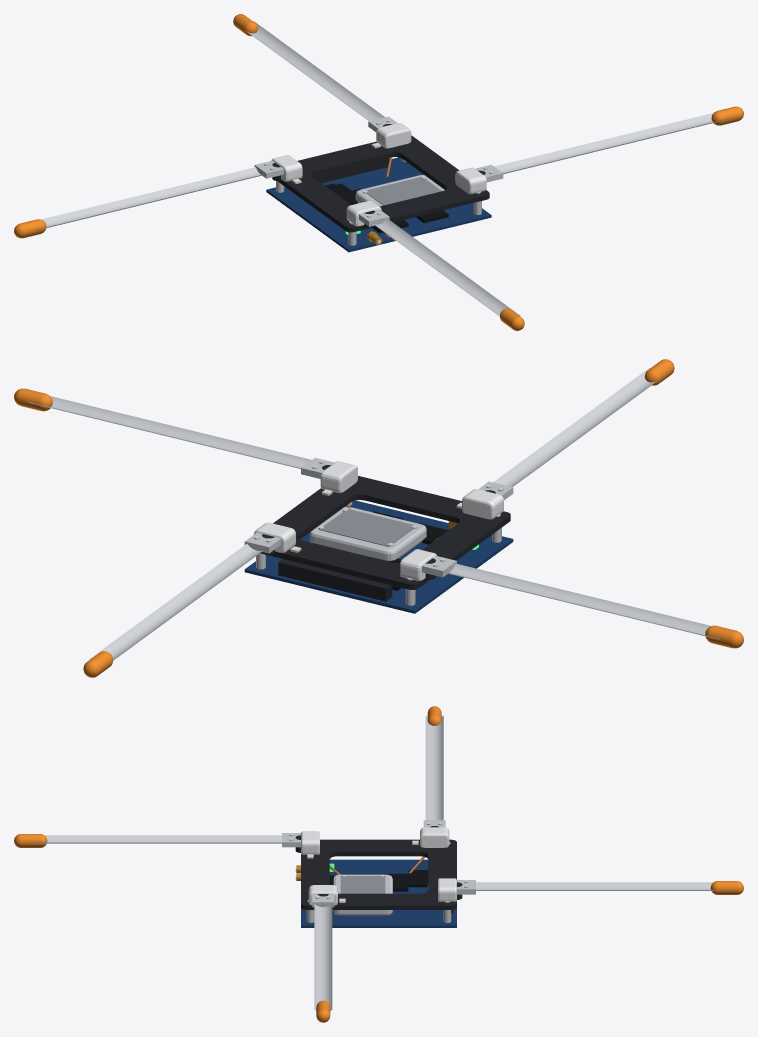
File: radio-uhf.glb
3 renders of one model, top to bottom at view 1: azimuth 30°, elevation 25°; view 2: azimuth 150°, elevation 25°; view 3: azimuth 270°, elevation 25°, orthographic. The views are drawn at different scales.
Parts seen in each view (by area): view 1: antenna-deck, transceiver-board-board, whip-2-tape, whip-4-tape, whip-1-tape, whip-3-tape, shield-lid, hinge-housing-3, transceiver-board-connector, hinge-housing-2, hinge-housing-4; view 2: antenna-deck, transceiver-board-board, whip-2-tape, whip-4-tape, whip-3-tape, whip-1-tape, shield-can, transceiver-board-connector, shield-lid, hinge-housing-1, hinge-housing-2, hinge-housing-4 (+4 smaller); view 3: antenna-deck, transceiver-board-board, whip-1-tape, whip-3-tape, whip-4-tape, whip-2-tape, shield-lid, shield-can, hinge-housing-4.
Part boxes in pixels (<box>): antenna-deck: <box>277,135,489,232</box>; transceiver-board-board: <box>266,157,491,252</box>; whip-2-tape: <box>494,113,731,174</box>; whip-4-tape: <box>34,167,264,230</box>; whip-1-tape: <box>373,218,520,316</box>; whip-3-tape: <box>246,21,384,121</box>; shield-lid: <box>366,177,441,205</box>; hinge-housing-3: <box>376,123,411,148</box>; transceiver-board-connector: <box>313,157,389,183</box>; hinge-housing-2: <box>455,167,486,194</box>; hinge-housing-4: <box>271,155,302,181</box>; antenna-deck: <box>260,476,510,589</box>; transceiver-board-board: <box>244,500,513,613</box>; whip-2-tape: <box>28,396,311,468</box>; whip-4-tape: <box>445,563,719,639</box>; whip-3-tape: <box>88,544,263,663</box>; whip-1-tape: <box>493,368,662,486</box>; shield-can: <box>309,506,426,560</box>; transceiver-board-connector: <box>278,559,392,601</box>; shield-lid: <box>319,509,414,546</box>; hinge-housing-1: <box>462,489,503,519</box>; hinge-housing-2: <box>320,461,357,493</box>; hinge-housing-4: <box>400,549,436,581</box>; antenna-deck: <box>301,839,456,909</box>; transceiver-board-board: <box>301,859,456,927</box>; whip-1-tape: <box>30,835,281,843</box>; whip-3-tape: <box>476,882,727,890</box>; whip-4-tape: <box>425,715,443,820</box>; whip-2-tape: <box>314,904,332,1010</box>; shield-lid: <box>340,876,385,893</box>; shield-can: <box>333,874,392,915</box>; hinge-housing-4: <box>420,827,449,847</box>.
Bounding box in the file's own units: 0.459 × 0.0257 × 0.459.
